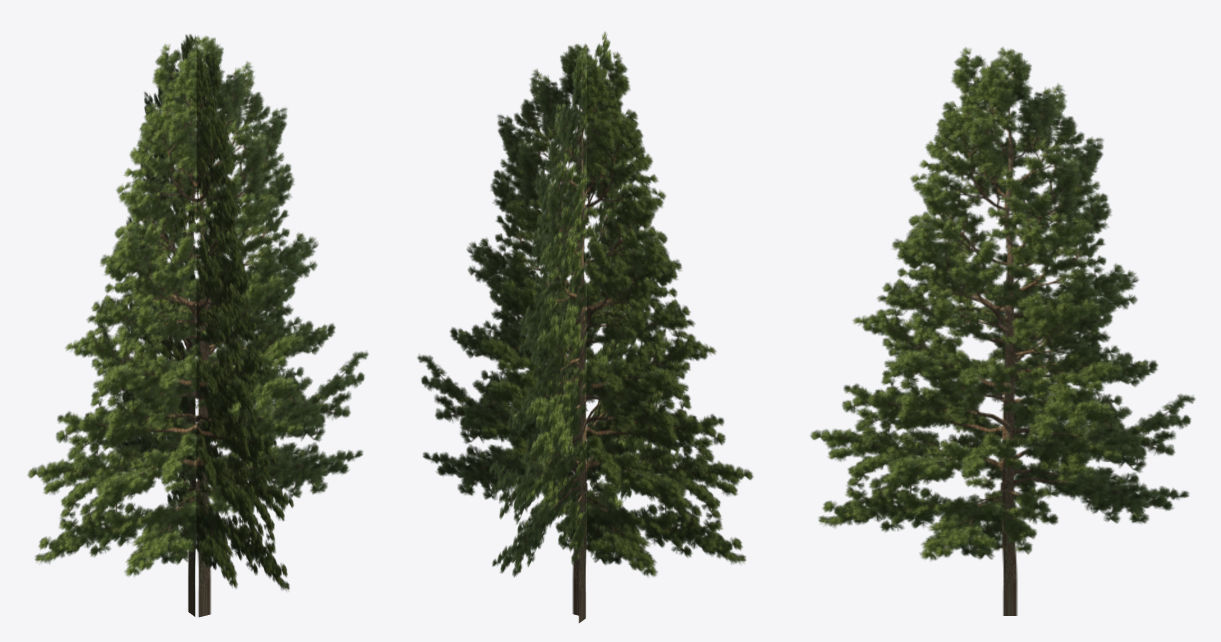
Rendered from pinecone.glb.
3 views of the same model, side by side, from view 1: azimuth 30°, elevation 25°; view 2: azimuth 150°, elevation 25°; view 3: azimuth 270°, elevation 25° (orthographic). The views are drawn at different scales.
Visible parts, largest first — view 1: Pine_Realistic_Tree_PNG_Clip_Art-1099.001; view 2: Pine_Realistic_Tree_PNG_Clip_Art-1099.001; view 3: Pine_Realistic_Tree_PNG_Clip_Art-1099.001.
Part boxes in pixels (left/top/right/bottom): Pine_Realistic_Tree_PNG_Clip_Art-1099.001: left=27, top=34, right=368, bottom=617; Pine_Realistic_Tree_PNG_Clip_Art-1099.001: left=417, top=31, right=753, bottom=622; Pine_Realistic_Tree_PNG_Clip_Art-1099.001: left=810, top=47, right=1195, bottom=615.
Bounding box in the file's own units: 10.14 × 15.74 × 10.14.
Materials: 1 (1 with a texture image).
